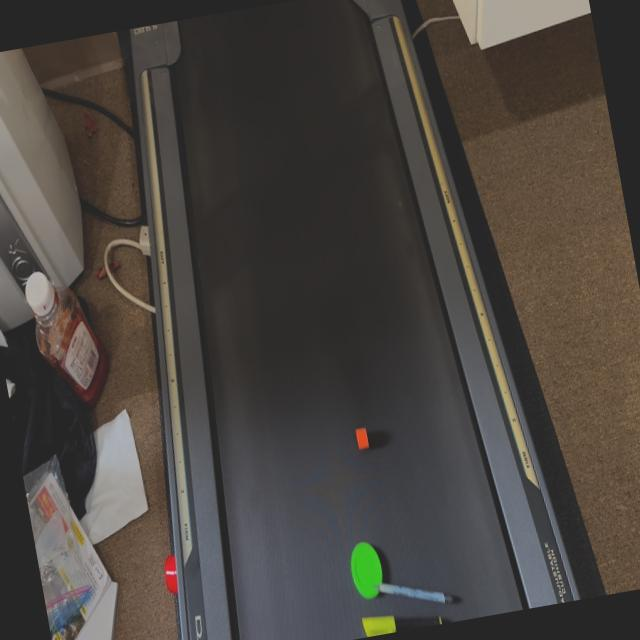Trash: (345, 523, 464, 638), (348, 422, 372, 456)
